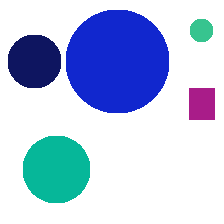circle: (66, 10, 168, 112), (23, 136, 89, 202), (8, 35, 60, 87), (190, 19, 212, 41)
rectangle: (189, 88, 214, 119)
